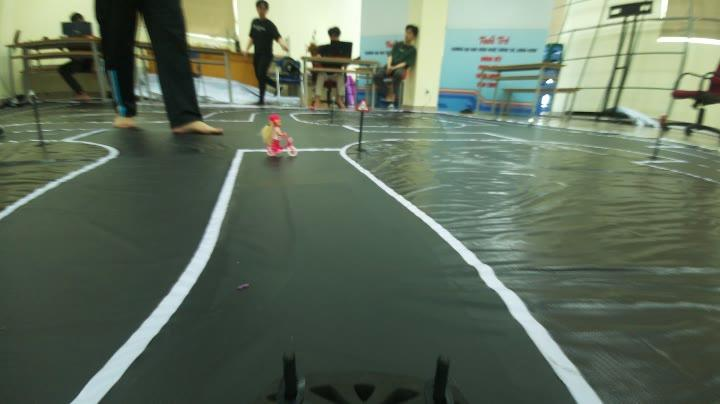pedestrian: (256, 112, 300, 162)
